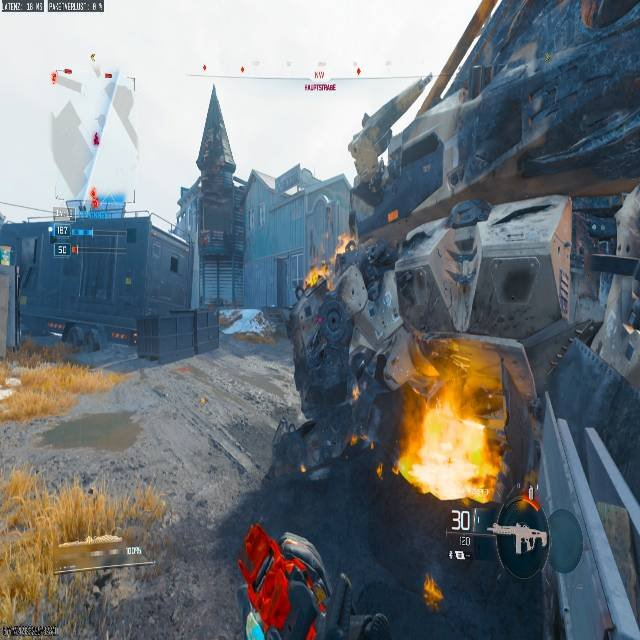player: (88, 185, 98, 208)
